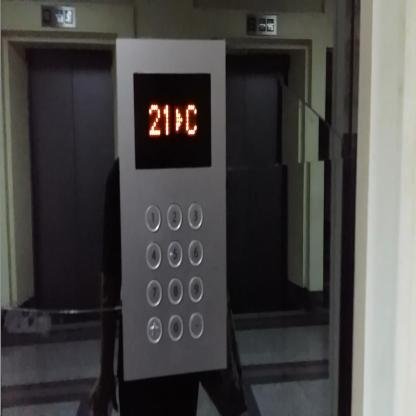-: (189, 310, 204, 339)
0: (167, 310, 184, 342)
1: (145, 204, 162, 232)
2: (166, 202, 182, 233)
3: (188, 202, 202, 230)
4: (146, 242, 162, 271)
5: (166, 238, 184, 271)
6: (186, 237, 204, 268)
7: (146, 277, 162, 306)
8: (167, 276, 183, 305)
9: (188, 274, 204, 305)
led: (132, 71, 212, 168)
s: (146, 313, 162, 345)
